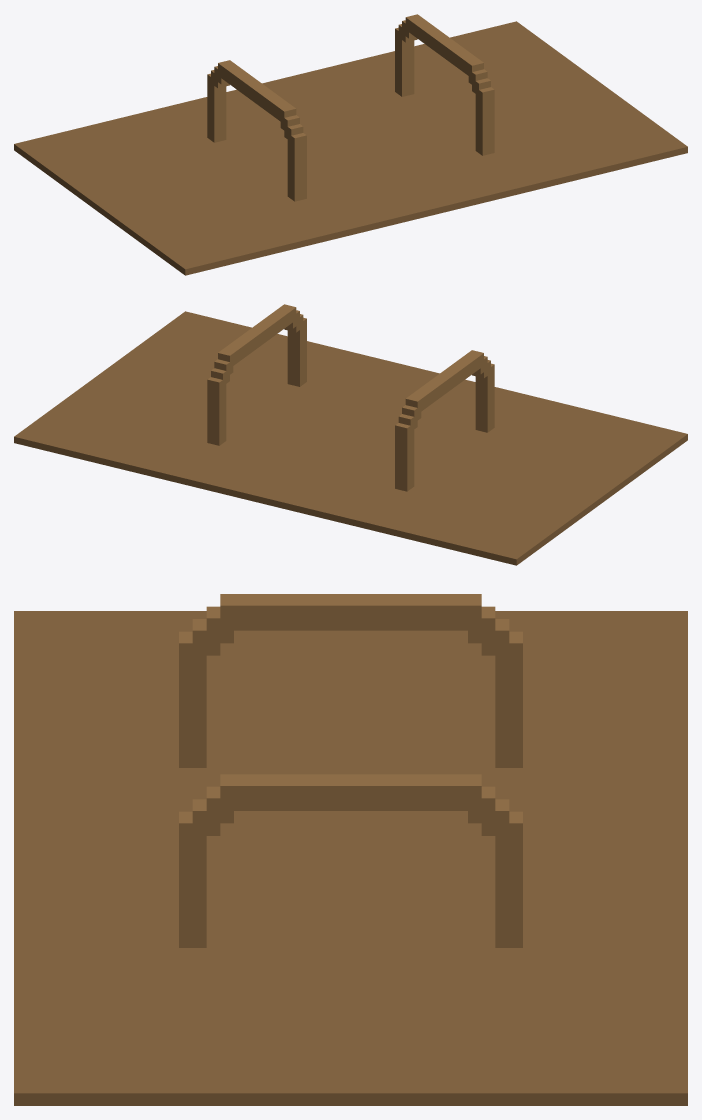
Rendered from BOX_for_DRON-0.obj.
3 views of the same model, one above another, from view 1: azimuth 30°, elevation 25°; view 2: azimuth 150°, elevation 25°; view 3: azimuth 270°, elevation 25° (orthographic). The views are drawn at different scales.
Size of the model in its own units: 8.3 by 1.4 by 4.9.
1 material, 1 textured.
